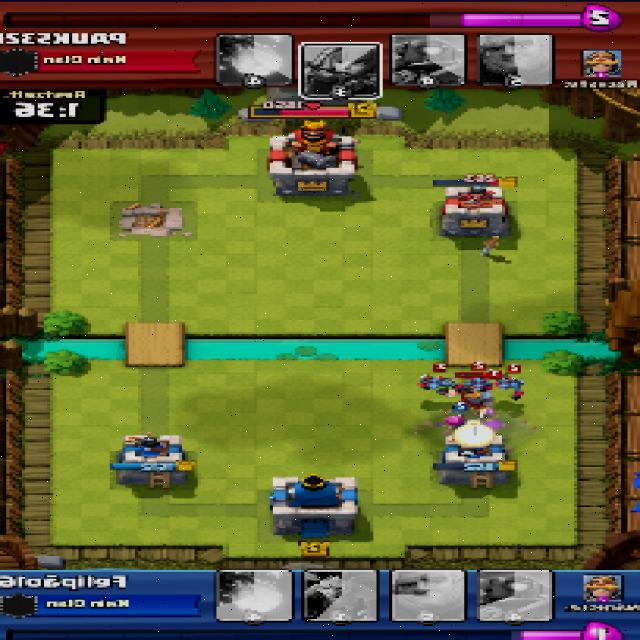Enemy-Archer: (446, 415, 467, 430)
Enemy-Knight: (456, 390, 496, 416)
Enemy-Minion: (495, 375, 528, 400), (419, 374, 450, 394), (460, 375, 492, 394)
